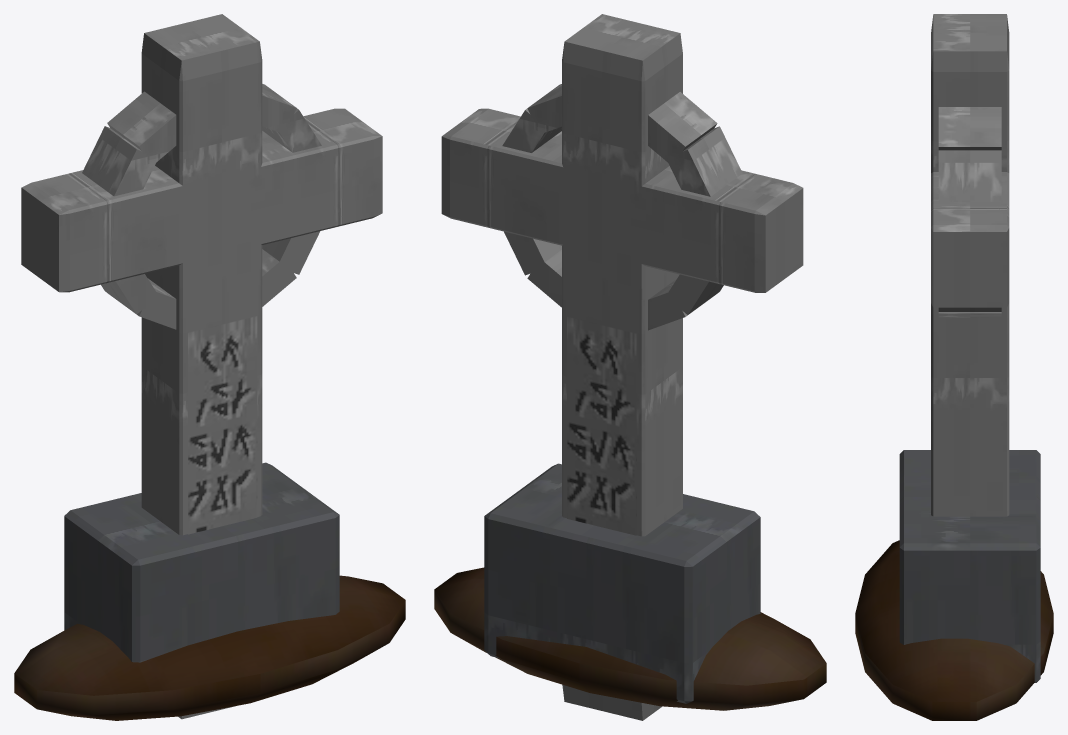
Rendered from tstone2.glb.
3 views of the same model, side by side, from view 1: azimuth 30°, elevation 25°; view 2: azimuth 150°, elevation 25°; view 3: azimuth 270°, elevation 25° (orthographic). The views are drawn at different scales.
Parts seen in each view (by area): view 1: box; view 2: box; view 3: box.
Part boxes in pixels (<box>): box: <box>14,14,405,720</box>; box: <box>434,14,826,720</box>; box: <box>855,14,1053,720</box>.
Bounding box in the file's own units: 1.73 × 2.95 × 0.8232.
5 materials, 5 textured.
